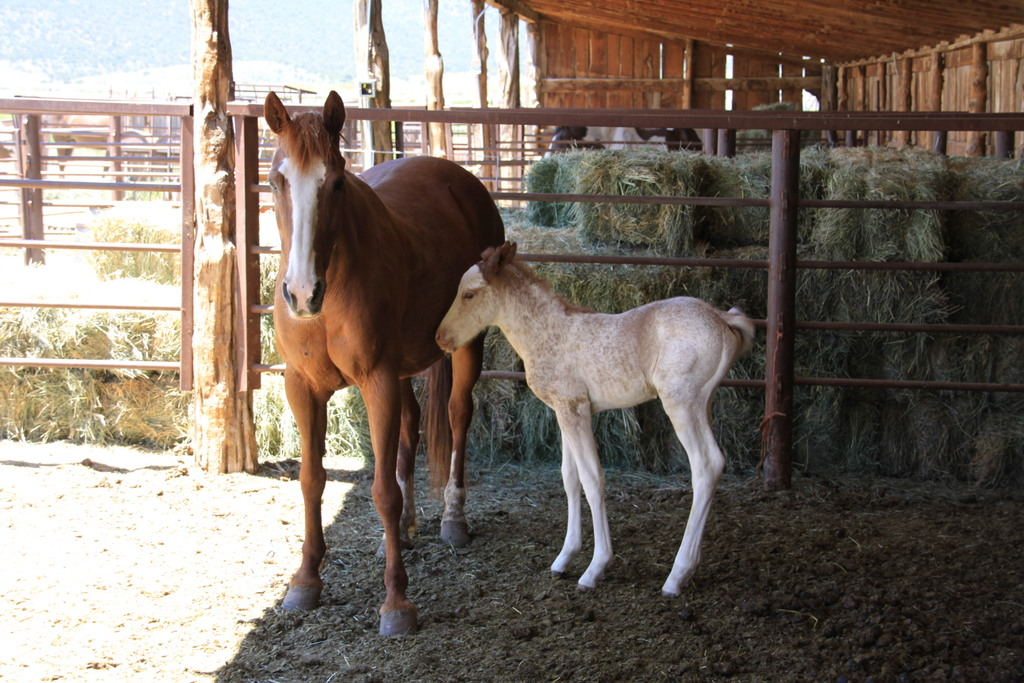horse: (435, 240, 757, 600)
